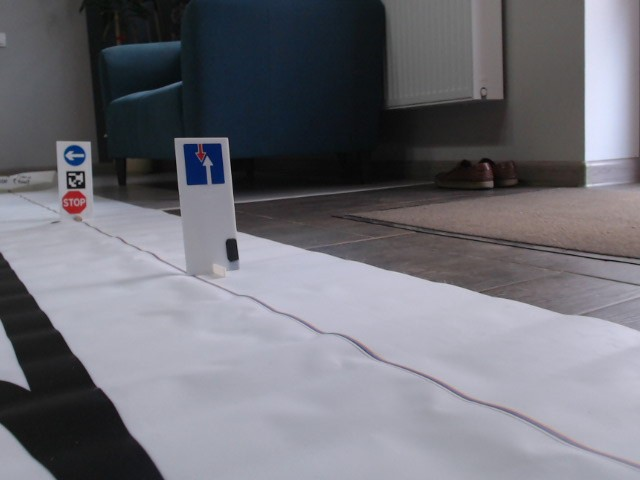Stop: (60, 190, 88, 213)
priority_movement: (181, 142, 225, 186)
